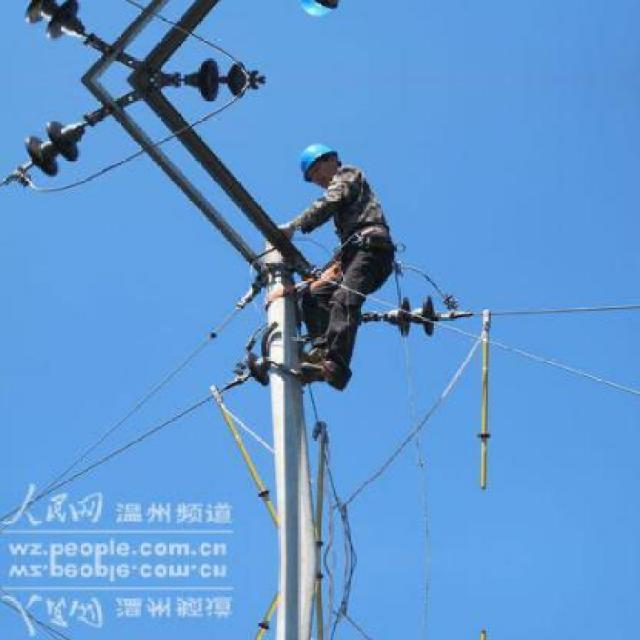hat: (299, 132, 339, 179)
